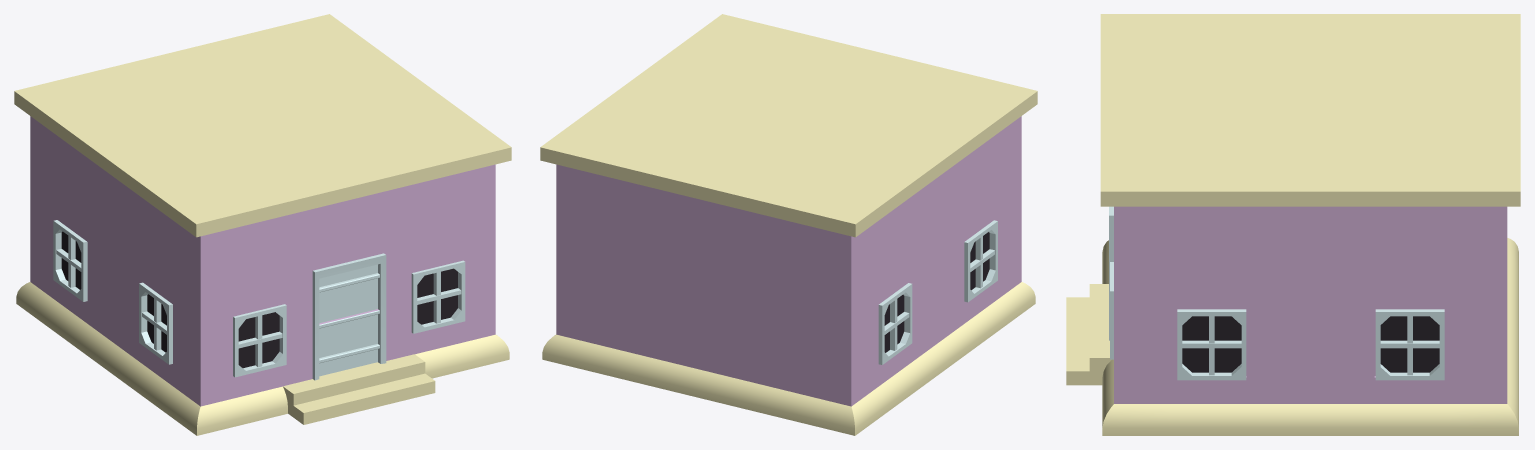
The model's file is house purple.fbx.
The picture shows the model from 3 angles, left to right: view 1: azimuth 30°, elevation 25°; view 2: azimuth 150°, elevation 25°; view 3: azimuth 270°, elevation 25°; orthographic projection. The views are drawn at different scales.
Parts seen in each view (by area): view 1: Cube; view 2: Cube; view 3: Cube.
Part boxes in pixels (x1,y1,x2,y2): Cube: (14, 14, 511, 435); Cube: (540, 14, 1037, 435); Cube: (1066, 14, 1520, 435).
Bounding box in the file's own units: 9.21 × 5.93 × 9.96.
